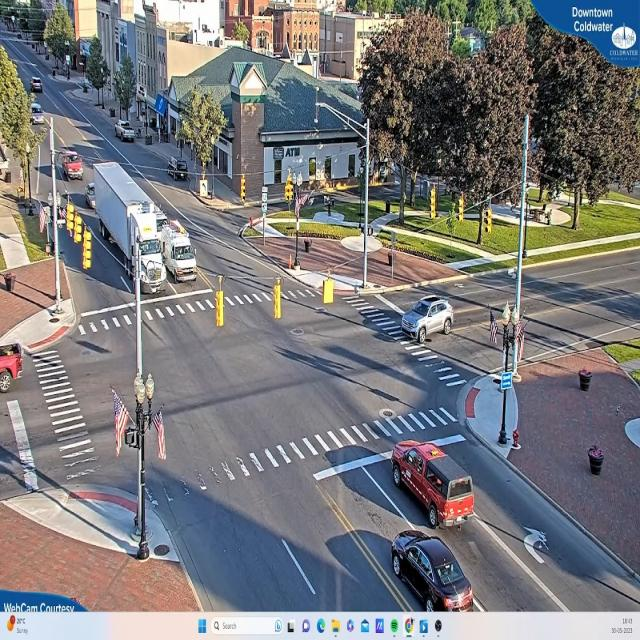car: (392, 438, 477, 530), (393, 528, 479, 610), (403, 298, 455, 344), (59, 151, 85, 181), (117, 122, 137, 144), (31, 79, 42, 94)
truck: (95, 161, 172, 293)
